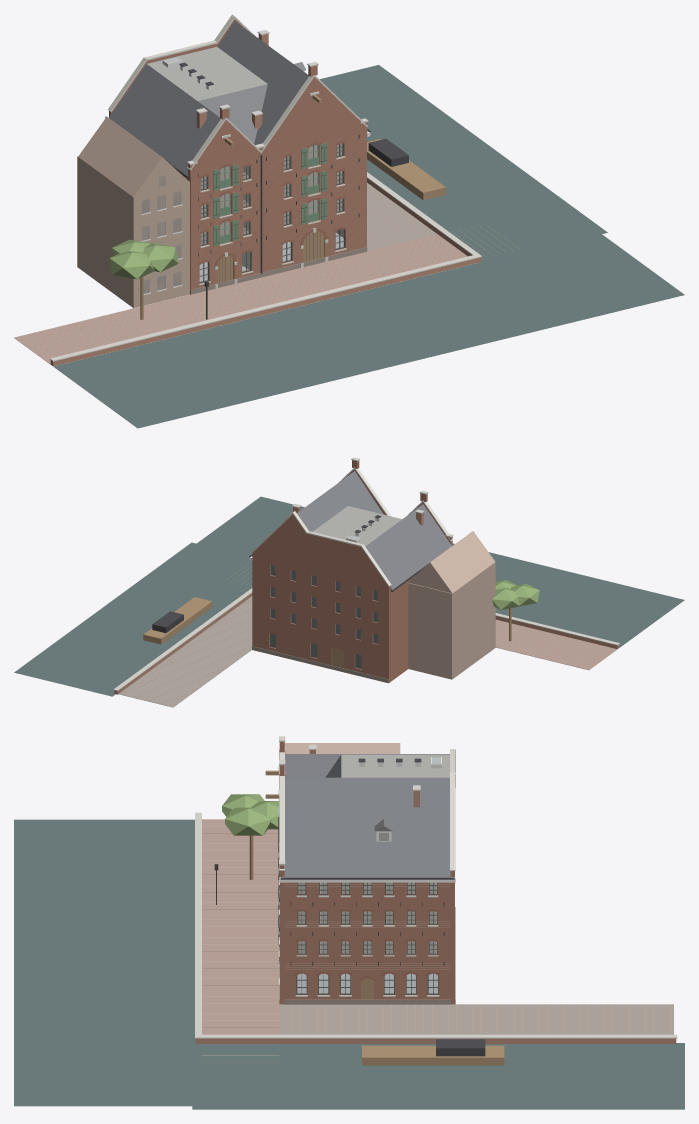
The model's file is clay-amsterdam-canal-warehouse-clay-v001.glb.
The picture shows the model from 3 angles, top to bottom: view 1: azimuth 30°, elevation 25°; view 2: azimuth 150°, elevation 25°; view 3: azimuth 270°, elevation 25°; orthographic projection. The views are drawn at different scales.
Visible parts, largest first — view 1: CLAY_WATER, CLAY_WALL, CLAY_NEIGHBOUR, CLAY_PAVING, CLAY_ROOF, CLAY_STONE, CLAY_GLASS, CLAY_MEMBRANE, CLAY_BRICK, CLAY_TIMBER, CLAY_GREEN, CLAY_SETTS (+7 smaller); view 2: CLAY_WATER, CLAY_WALL, CLAY_NEIGHBOUR, CLAY_SETTS, CLAY_ROOF, CLAY_PAVING, CLAY_STONE, CLAY_MEMBRANE, CLAY_TIMBER, CLAY_TRIM, CLAY_GLASS, CLAY_BRICK (+4 smaller); view 3: CLAY_WATER, CLAY_ROOF, CLAY_WALL, CLAY_PAVING, CLAY_SETTS, CLAY_STONE, CLAY_JOINT, CLAY_TIMBER, CLAY_GLASS, CLAY_BRICK, CLAY_MEMBRANE, CLAY_TRIM (+7 smaller).
Part boxes in pixels (left/top/right/bottom): CLAY_WATER: left=53, top=65, right=684, bottom=428; CLAY_WALL: left=109, top=19, right=367, bottom=294; CLAY_NEIGHBOUR: left=77, top=117, right=189, bottom=308; CLAY_PAVING: left=14, top=234, right=467, bottom=364; CLAY_ROOF: left=109, top=21, right=316, bottom=175; CLAY_STONE: left=50, top=14, right=481, bottom=361; CLAY_GLASS: left=142, top=57, right=343, bottom=293; CLAY_MEMBRANE: left=147, top=47, right=267, bottom=100; CLAY_BRICK: left=50, top=33, right=481, bottom=366; CLAY_TIMBER: left=140, top=95, right=446, bottom=319; CLAY_GREEN: left=213, top=143, right=326, bottom=245; CLAY_SETTS: left=367, top=183, right=437, bottom=251; CLAY_WATER: left=14, top=496, right=684, bottom=696; CLAY_WALL: left=252, top=460, right=452, bottom=682; CLAY_NEIGHBOUR: left=408, top=531, right=495, bottom=679; CLAY_SETTS: left=119, top=596, right=252, bottom=707; CLAY_ROOF: left=287, top=471, right=451, bottom=590; CLAY_PAVING: left=495, top=619, right=616, bottom=670; CLAY_STONE: left=113, top=457, right=619, bottom=690; CLAY_MEMBRANE: left=313, top=506, right=401, bottom=546; CLAY_TIMBER: left=143, top=597, right=511, bottom=668; CLAY_TRIM: left=270, top=565, right=377, bottom=668; CLAY_GLASS: left=270, top=535, right=377, bottom=668; CLAY_BRICK: left=114, top=507, right=619, bottom=694; CLAY_WATER: left=14, top=819, right=684, bottom=1109; CLAY_ROOF: left=284, top=754, right=450, bottom=877; CLAY_WALL: left=279, top=742, right=454, bottom=1004; CLAY_PAVING: left=202, top=819, right=279, bottom=1034; CLAY_SETTS: left=280, top=1004, right=673, bottom=1034; CLAY_STONE: left=195, top=736, right=677, bottom=1038; CLAY_JOINT: left=202, top=826, right=670, bottom=1062; CLAY_TIMBER: left=249, top=770, right=504, bottom=1065; CLAY_GLASS: left=297, top=757, right=440, bottom=993; CLAY_BRICK: left=195, top=750, right=676, bottom=1043; CLAY_MEMBRANE: left=341, top=754, right=449, bottom=777; CLAY_TRIM: left=296, top=882, right=438, bottom=994.
Size of the model in its own units: 62.75 by 21.68 by 61.3.
